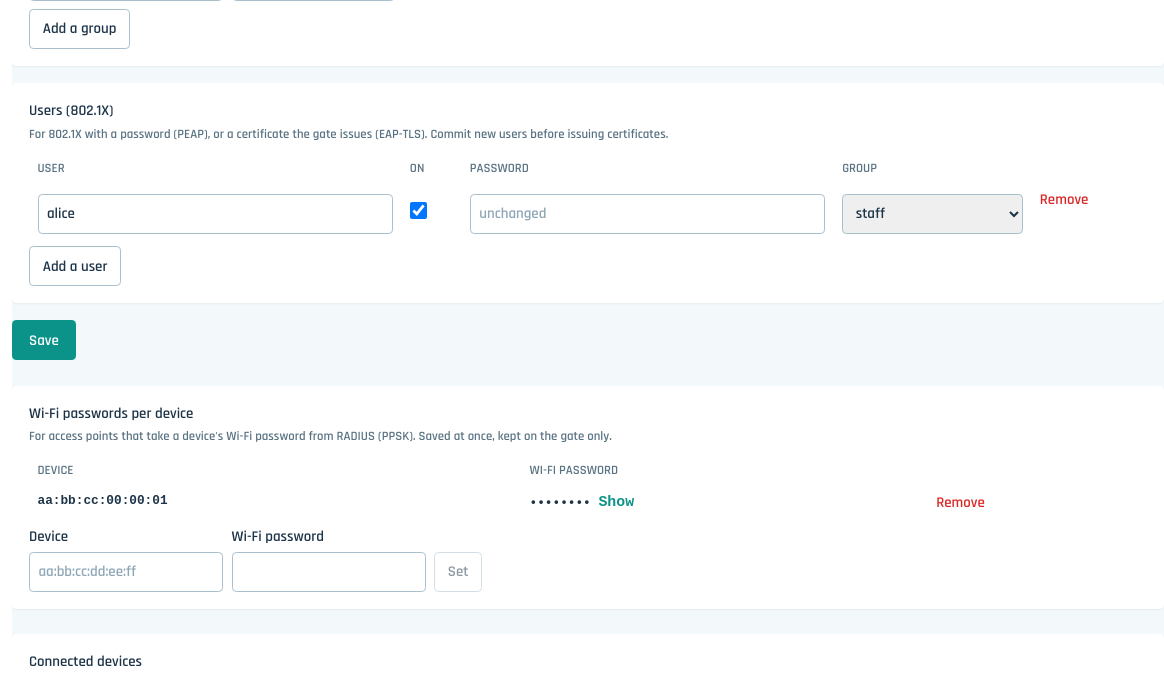
Test case: Network → RADIUS › shows server validation errors next to the field
(page scrolled)
What coordinates should you click on to do the following:
click the button "Save"
I would click on:
 (44, 340)
Its box is [12,320,76,360].
(page scrolled)
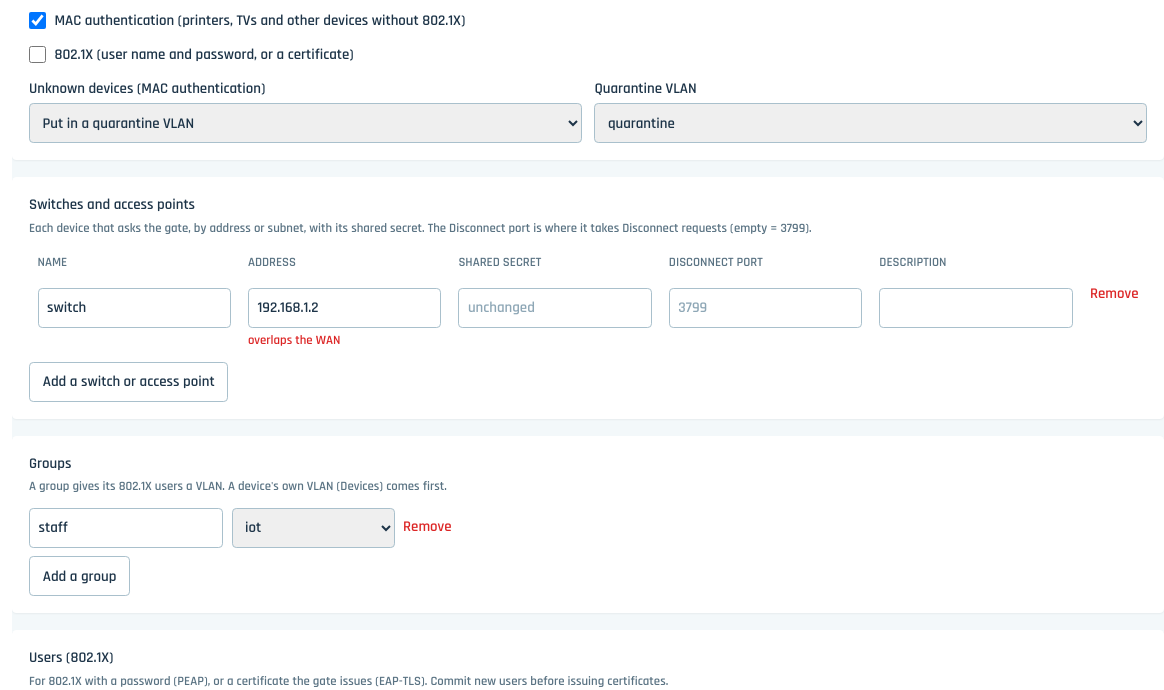
Expected: the text "overlaps the WAN" is shown, [248,332,340,348]
